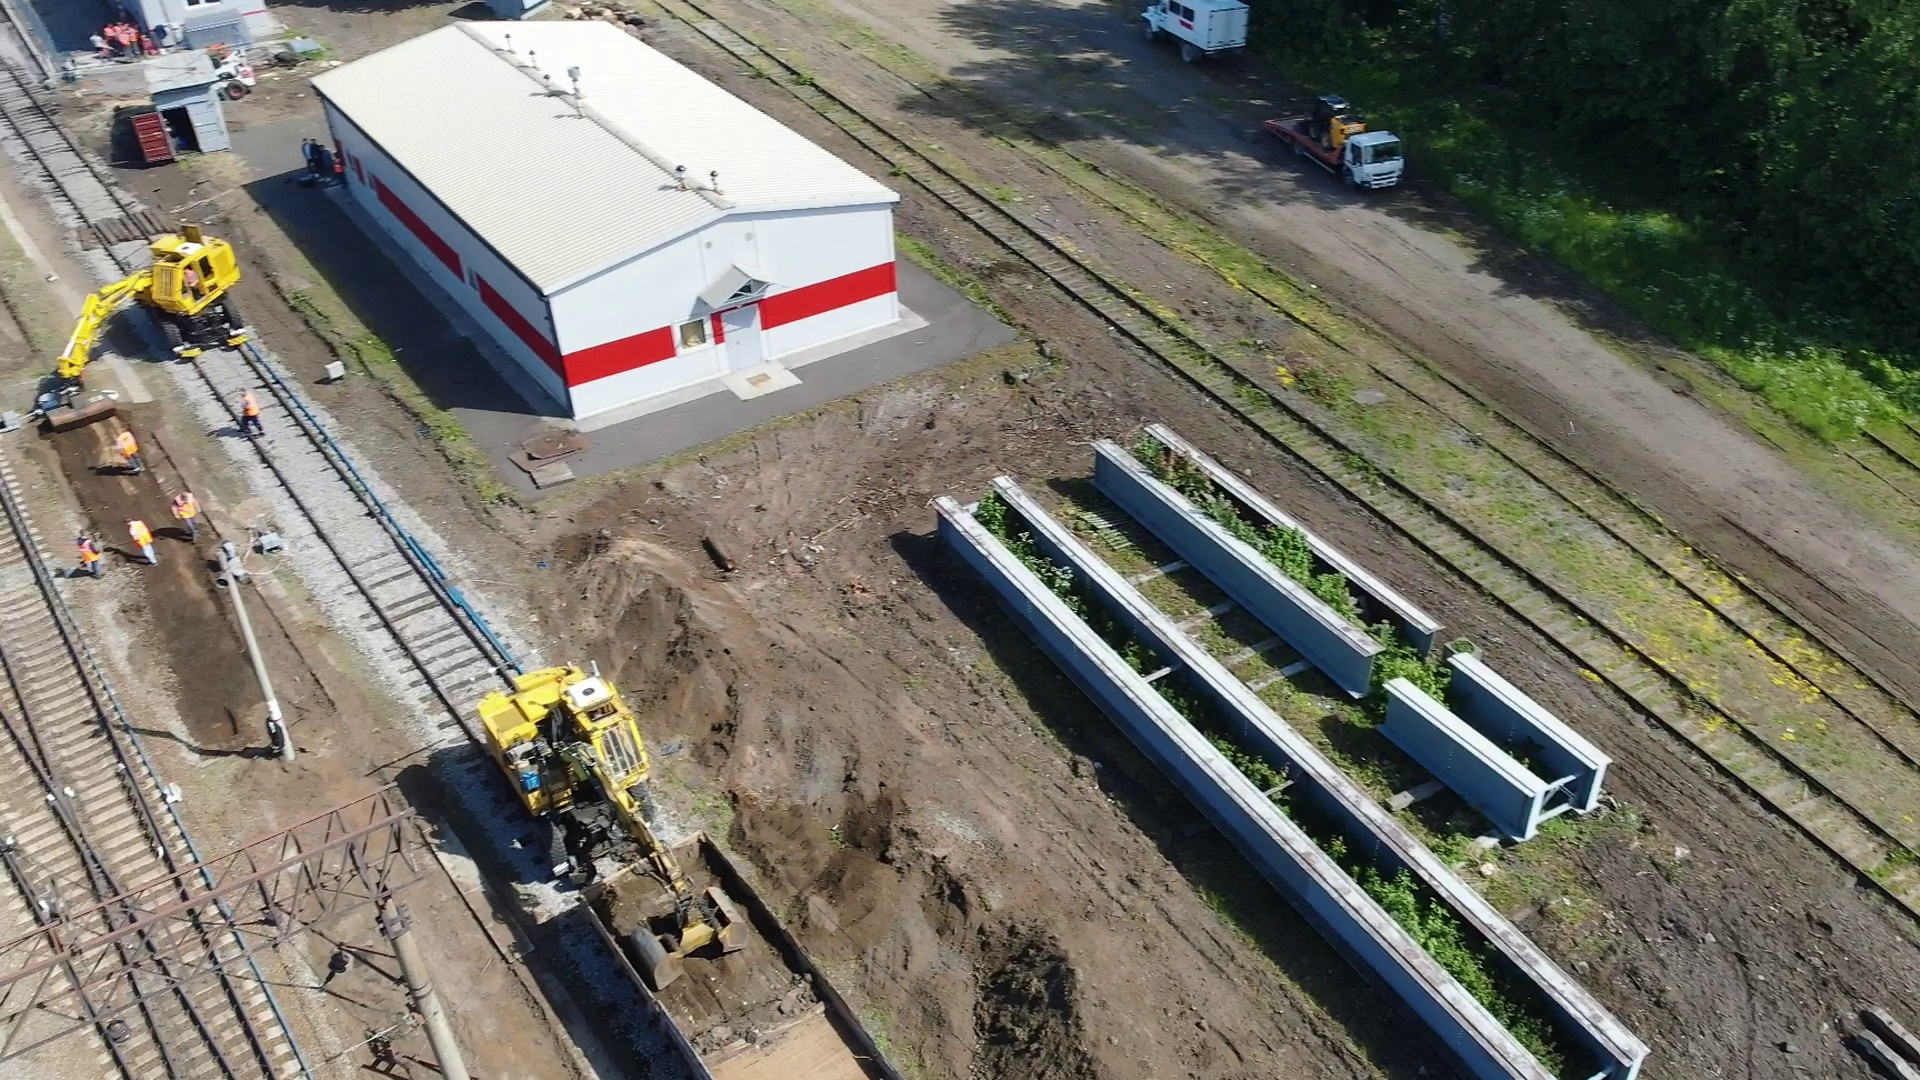kjtv: (472, 650, 653, 866), (133, 227, 251, 344)
